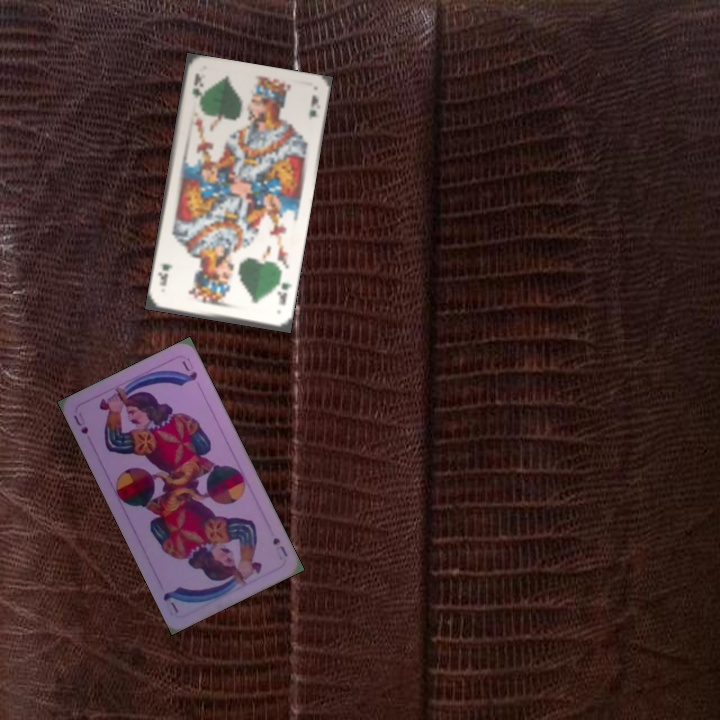GK: (273, 274, 294, 308), (187, 69, 205, 101)
SU: (69, 411, 91, 437), (269, 533, 290, 559)
